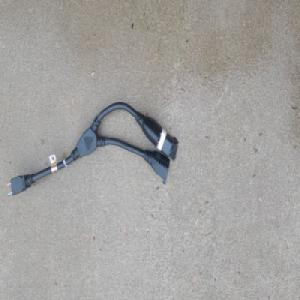Wire: (6, 99, 179, 198)
